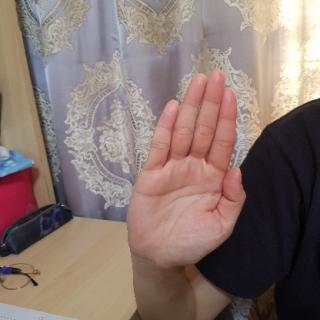SEEN: (122, 64, 254, 280)
